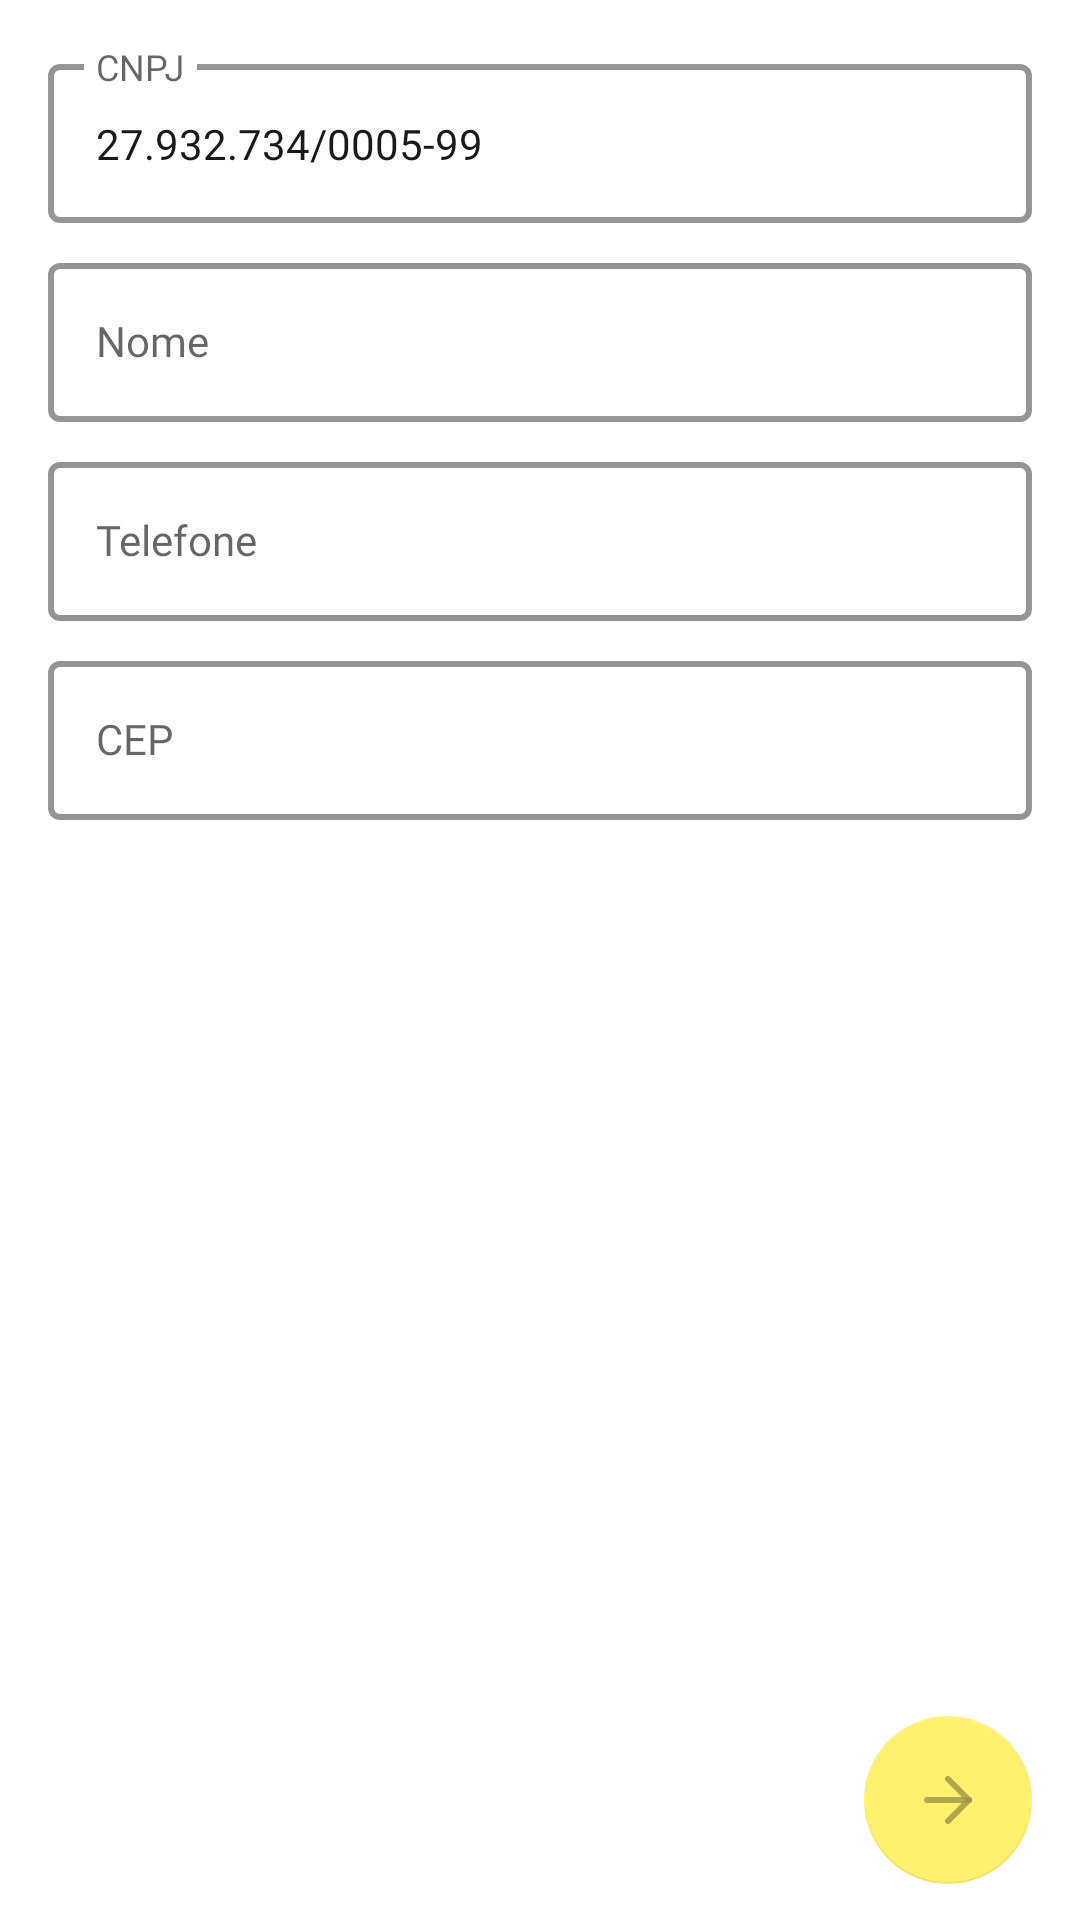

Icons on this 1080×1920 Android screen, each with its box as region(x1, y1, x2, y2):
arrow right: region(864, 1716, 1032, 1884)
